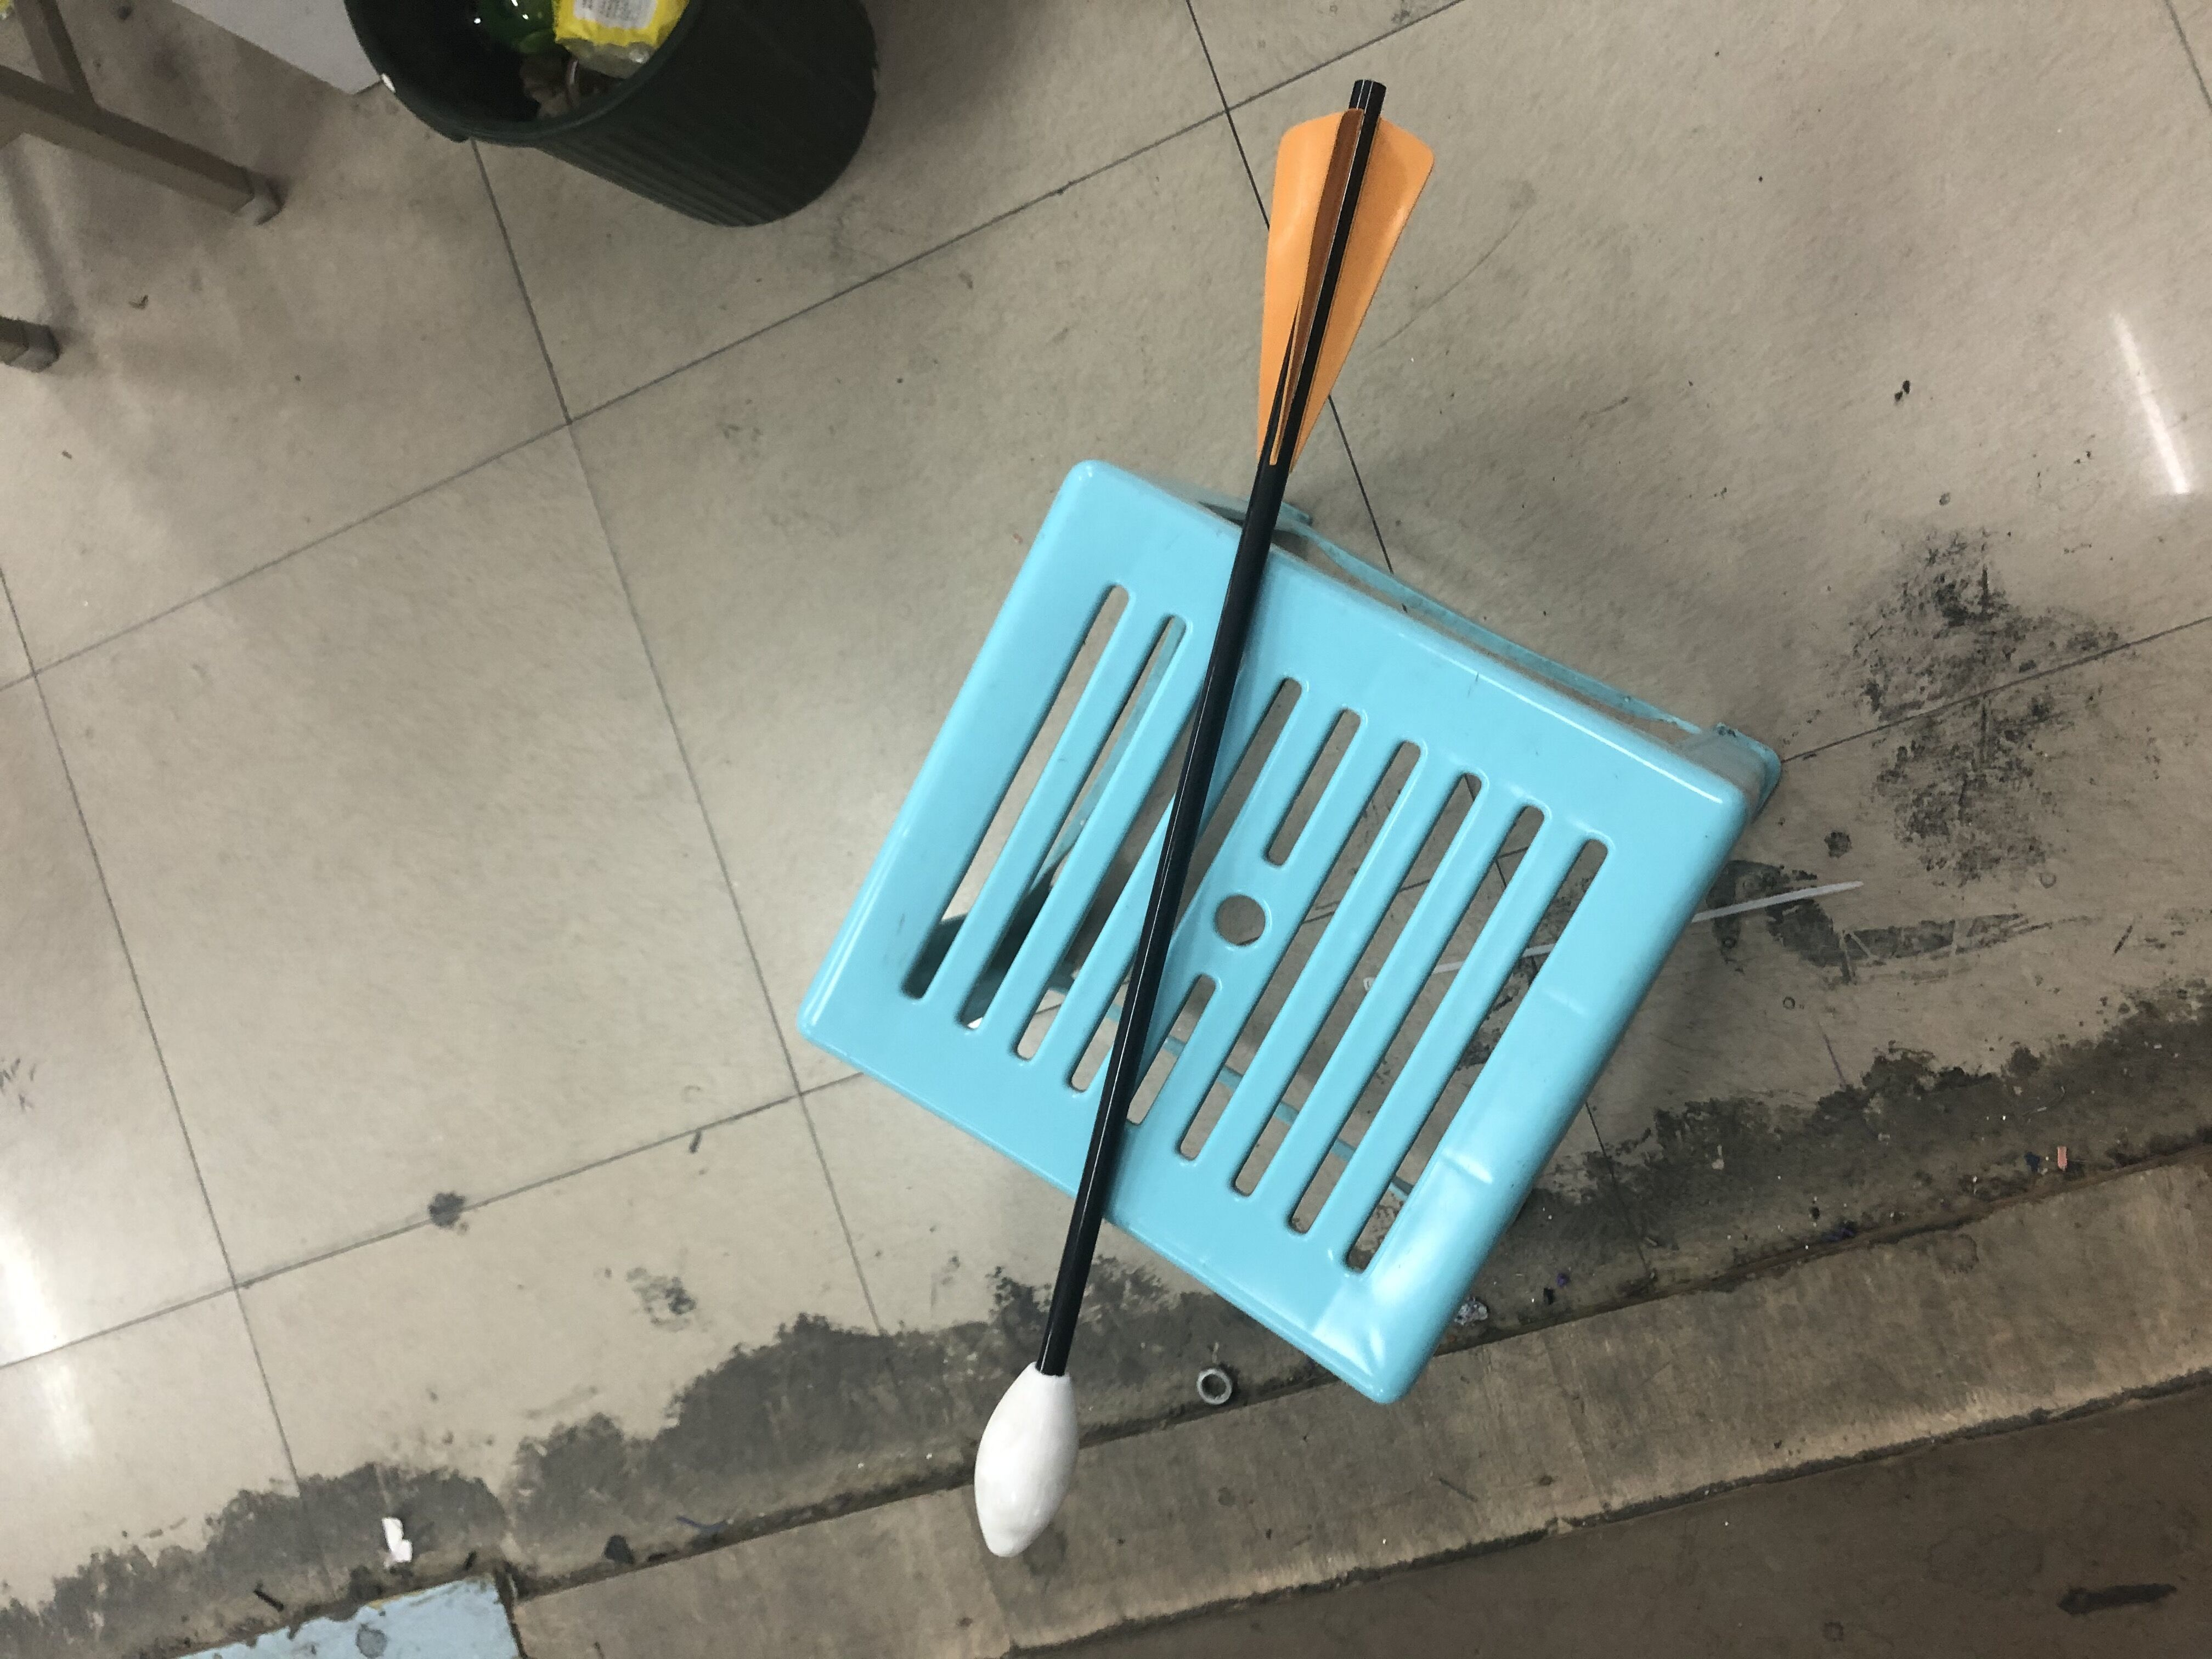arrow: (970, 77, 1440, 1563)
arrowFront: (968, 1359, 1085, 1565)
